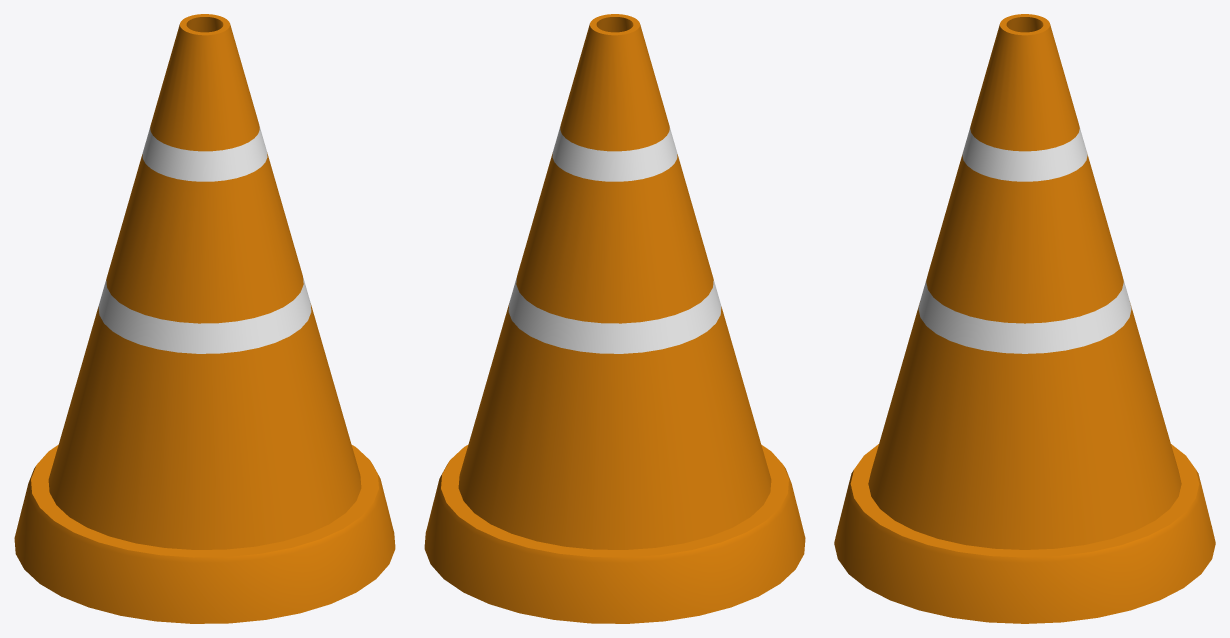
Rendered from Traffic_Cone.fbx.
3 views of the same model, side by side, from view 1: azimuth 30°, elevation 25°; view 2: azimuth 150°, elevation 25°; view 3: azimuth 270°, elevation 25° (orthographic).
Parts seen in each view (by area): view 1: Traffic_Cone; view 2: Traffic_Cone; view 3: Traffic_Cone.
Boxes of the visible parts, box(x1,y1,x2,y2) form: Traffic_Cone: box(14, 14, 395, 623); Traffic_Cone: box(424, 14, 805, 623); Traffic_Cone: box(834, 14, 1215, 623).
Bounding box in the file's own units: 0.8434 × 0.8434 × 1.26.
